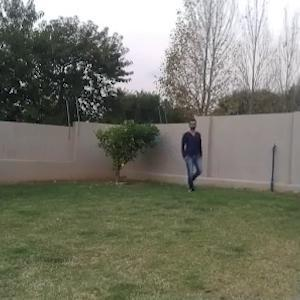follow: (184, 121, 202, 194)
